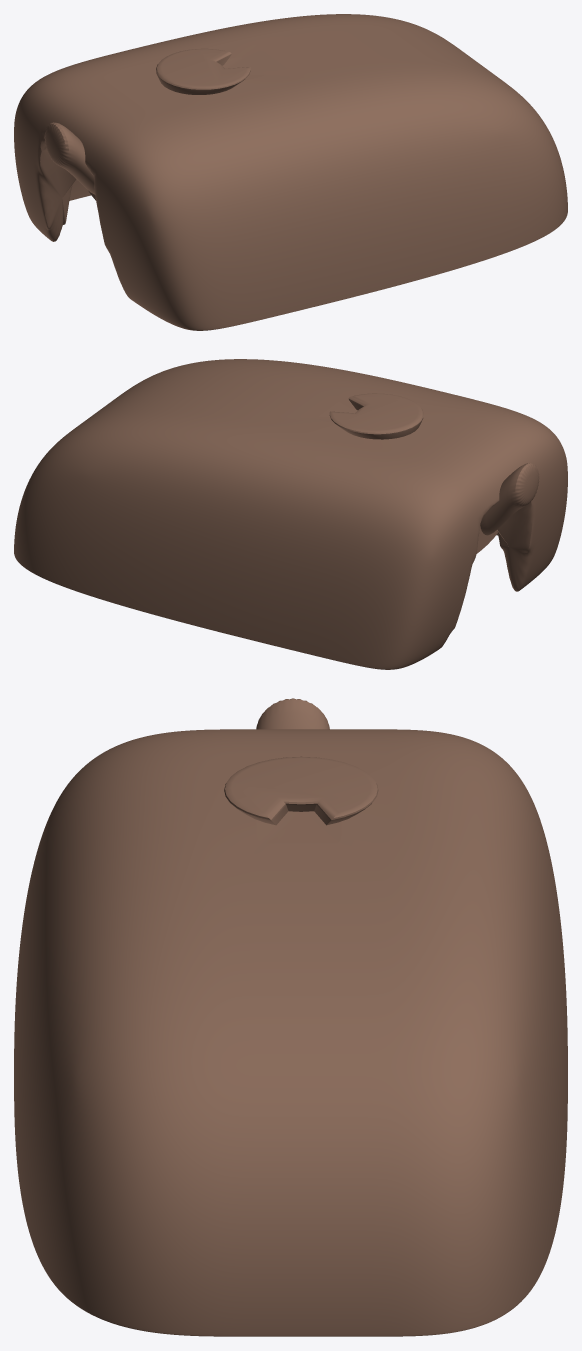
File: tank.fbx
The picture shows the model from 3 angles, top to bottom: view 1: azimuth 30°, elevation 25°; view 2: azimuth 150°, elevation 25°; view 3: azimuth 270°, elevation 25°; orthographic projection. The views are drawn at different scales.
Visible parts, largest first — view 1: body; view 2: body; view 3: body.
Boxes of the visible parts, bbox=[...] form: body: bbox=[14, 14, 567, 330]; body: bbox=[14, 359, 567, 669]; body: bbox=[14, 698, 567, 1336].
Bounding box in the file's own units: 39.14 × 14.15 × 24.21.
